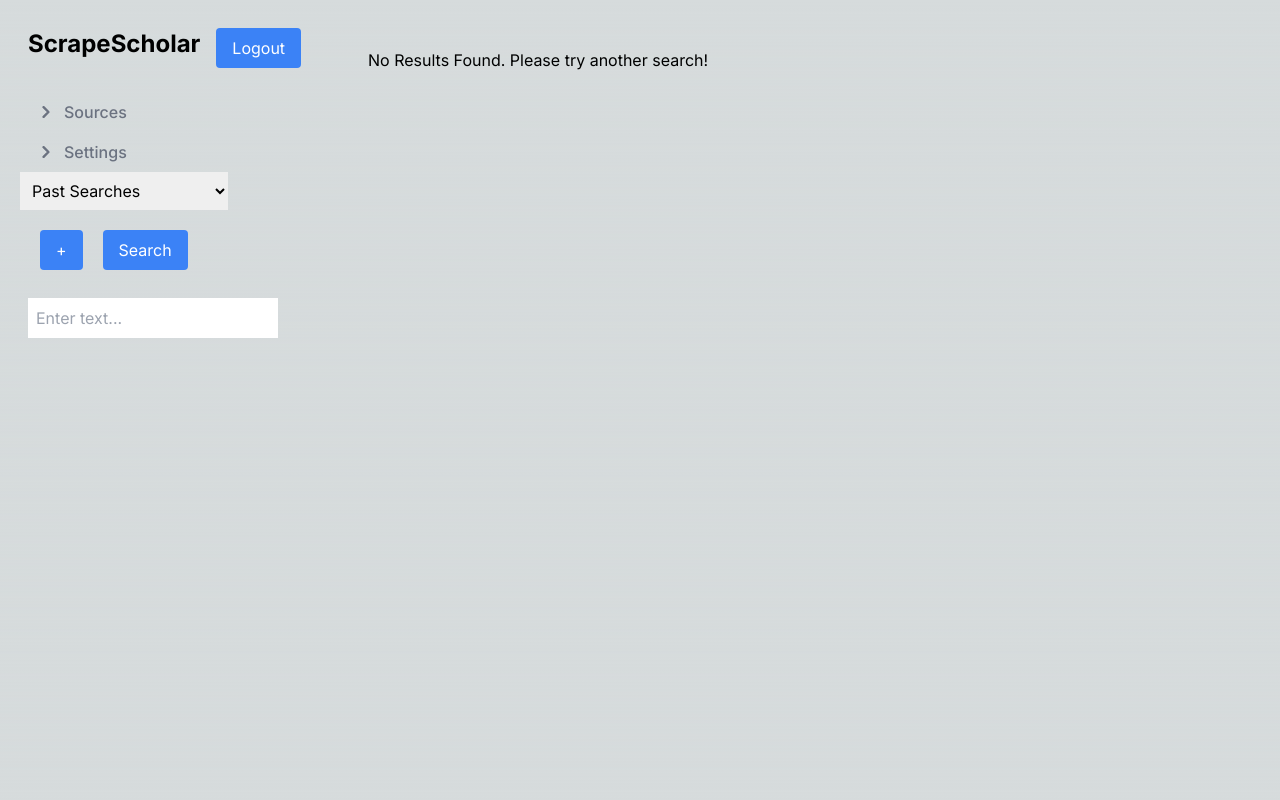
Test: SearchView US-17 Component › US-20 Settings Accordion Expands and shows API Keys, enter bad API key sciencedirect
The width and height of the screenshot is (1280, 800).
Click the button "Settings".
click(89, 152)  # box [32,132,147,172]
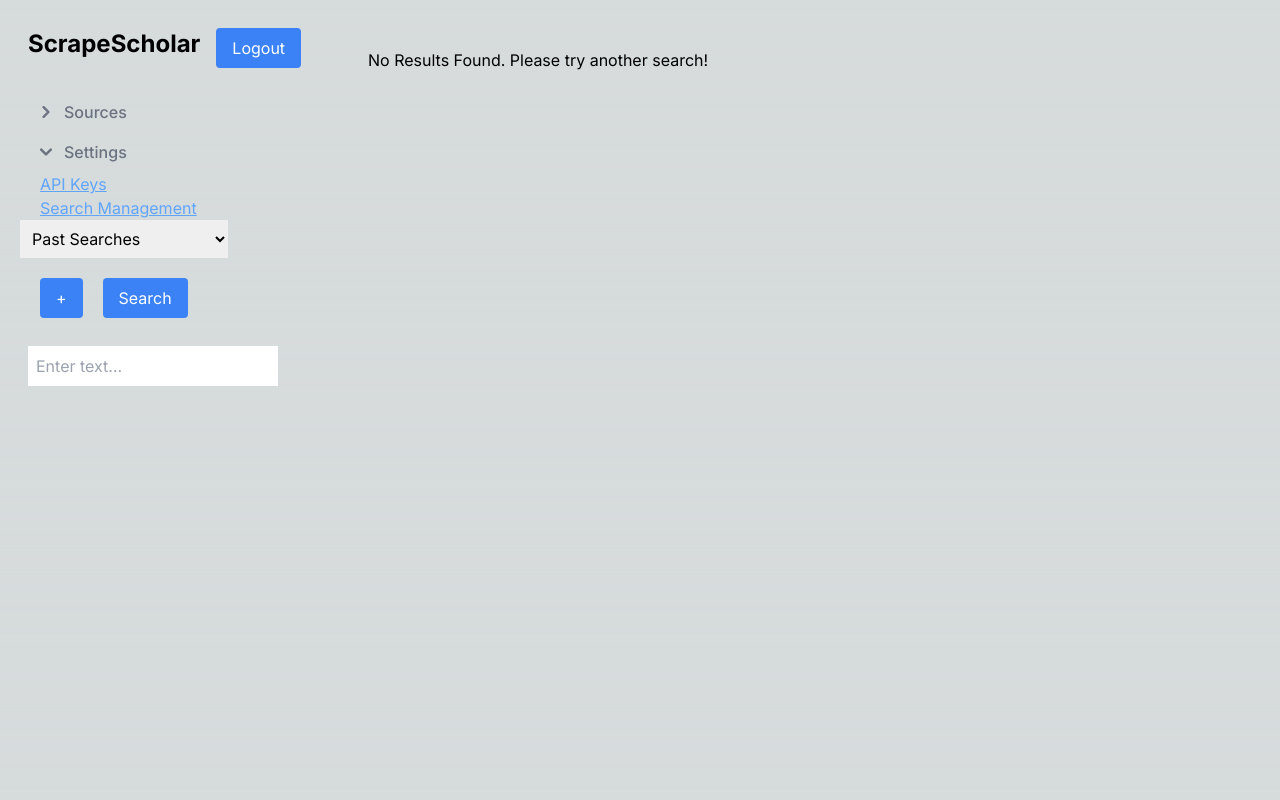
Result: the link "API Keys" is shown
Click the link "API Keys".
click(73, 184)  # box [40,174,107,194]
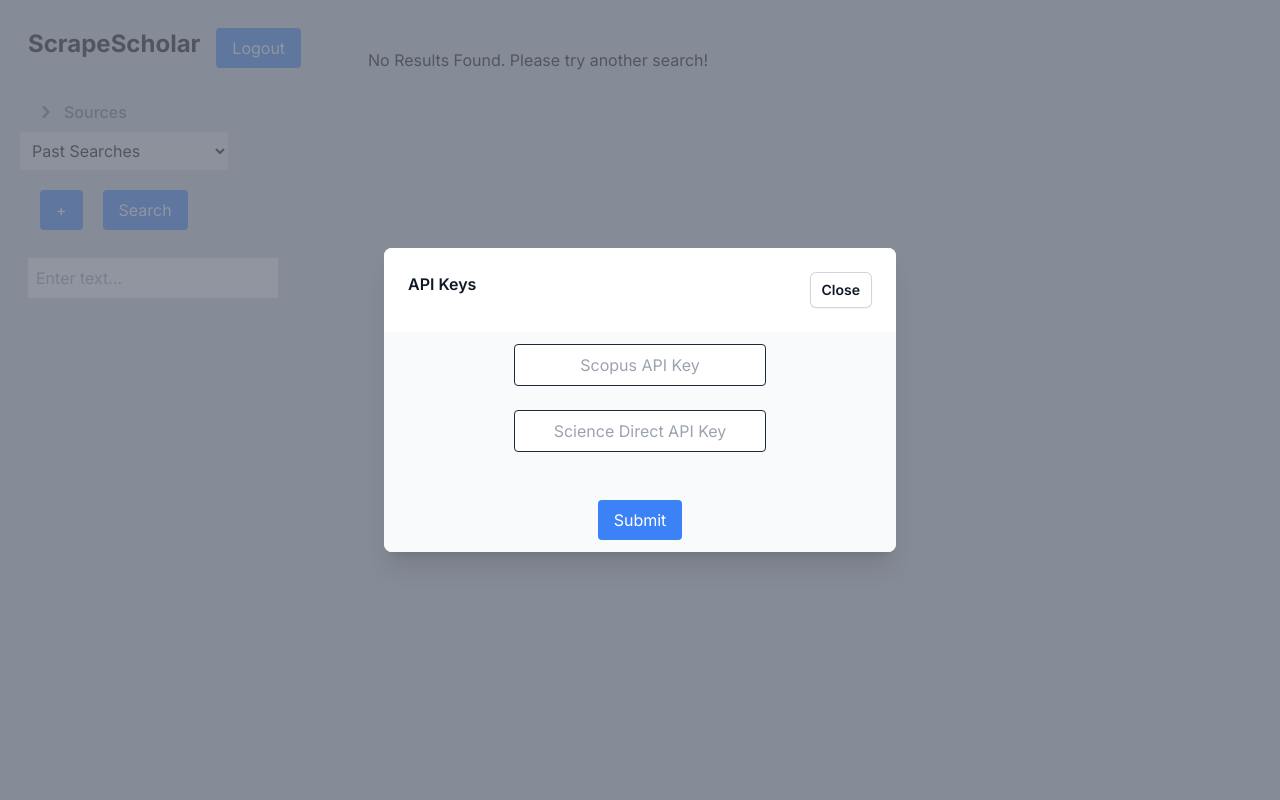
Result: the field with test id "scopus-api-input" is shown at [514,344,766,386]
Result: the field with test id "sciencedirect-api-input" is shown
Result: the button "Submit" is shown at [598,500,682,540]
Type "bad_api_key" into the field with test id "sciencedirect-api-input".
click(640, 431); type("bad_api_key")  # box [514,410,766,452]
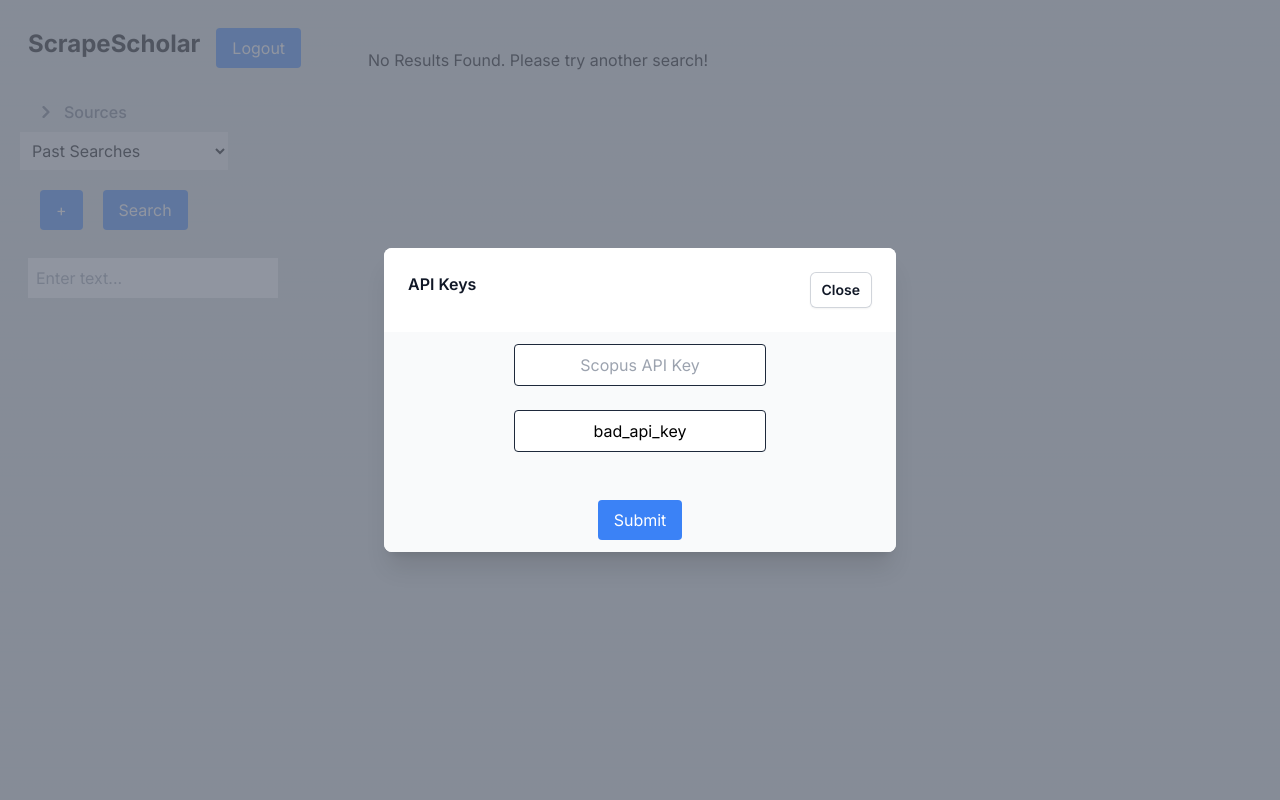
Click the button "Submit".
click(640, 520)  # box [598,500,682,540]
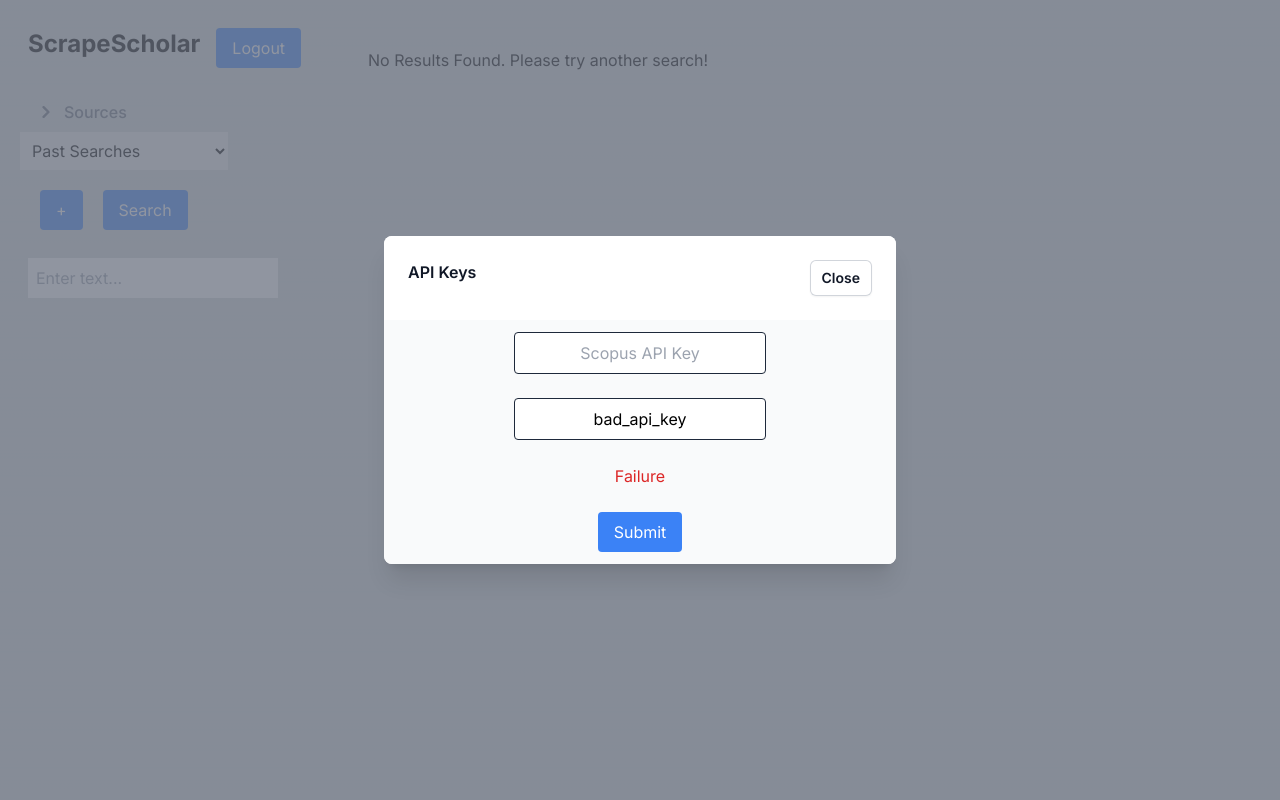
Result: the text "Failure" is shown at [615,464,665,488]
